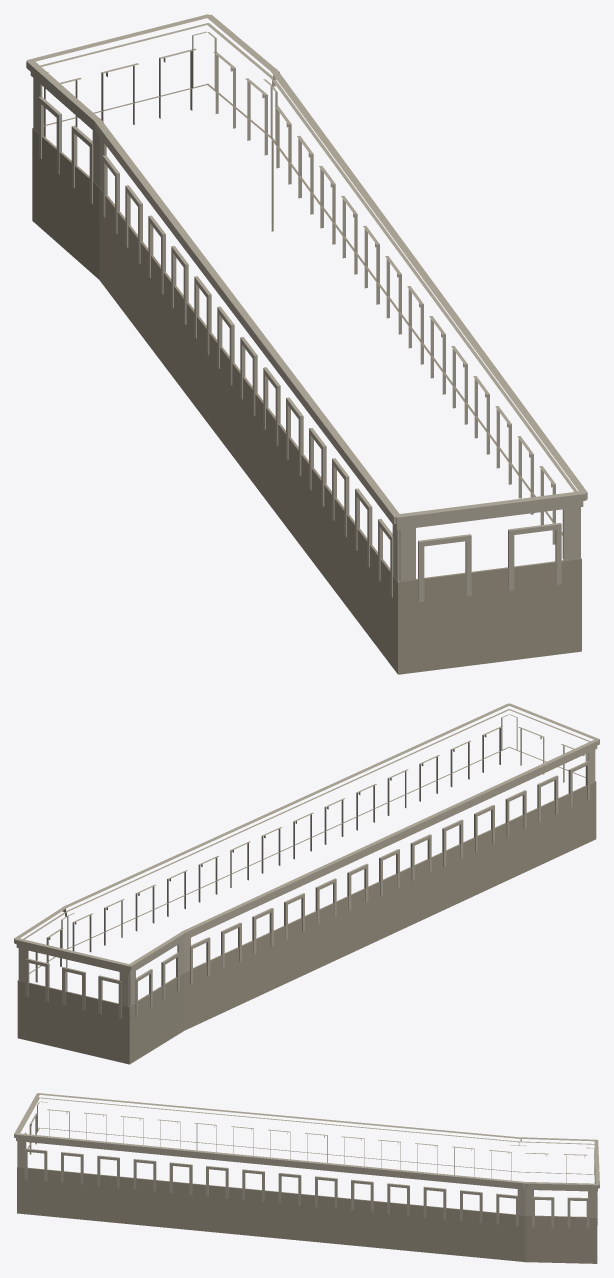
3 views of the same model, one above another, from view 1: azimuth 30°, elevation 25°; view 2: azimuth 150°, elevation 25°; view 3: azimuth 270°, elevation 25° (orthographic). The views are drawn at different scales.
Parts seen in each view (by area): view 1: detail; view 2: detail; view 3: detail.
Boxes of the visible parts, left/top/right/bottom form: detail: left=26, top=14, right=587, bottom=674; detail: left=14, top=703, right=599, bottom=1064; detail: left=14, top=1093, right=599, bottom=1263.
Bounding box in the file's own units: 16.06 × 6.47 × 43.11.
